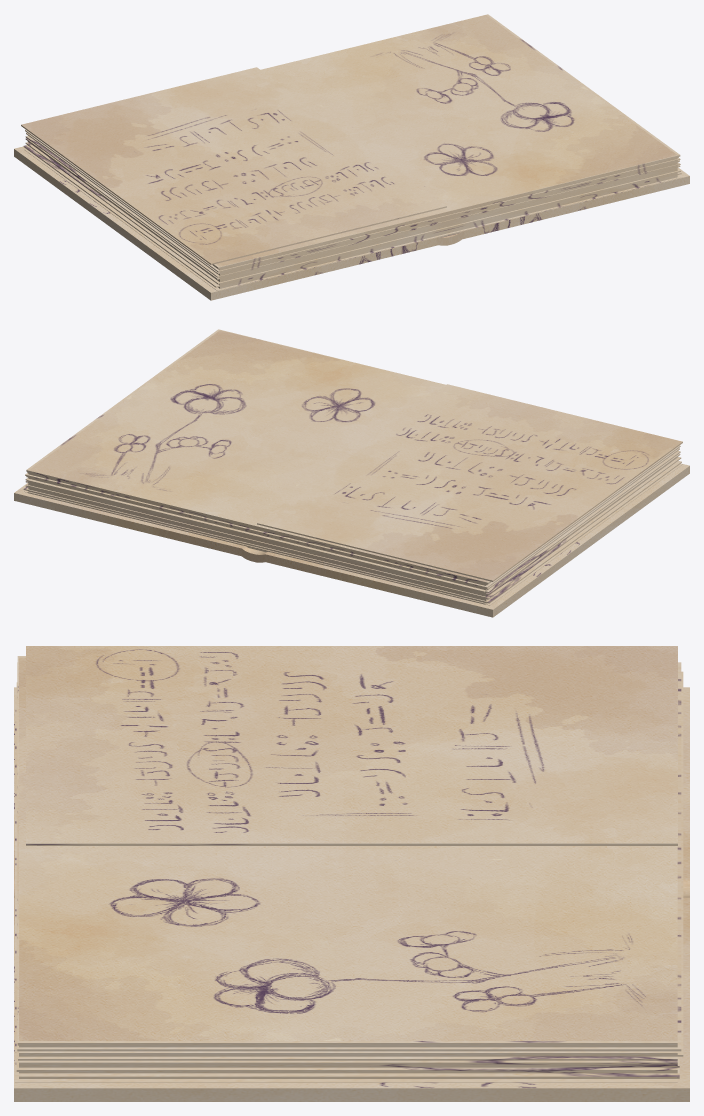
File: Journal.fbx
3 renders of one model, top to bottom at view 1: azimuth 30°, elevation 25°; view 2: azimuth 150°, elevation 25°; view 3: azimuth 270°, elevation 25°, orthographic. The views are drawn at different scales.
Visible parts, largest first — view 1: pCube5, pCube9, pCube5.001, pCube7, pCube7.001; view 2: pCube5, pCube9, pCube5.001, pCube7, pCube7.001; view 3: pCube5, pCube9, pCube7.001, pCube5.001, pCube7.
Part boxes in pixels (bbox=[...]): pCube5: bbox=[260, 14, 682, 235]; pCube9: bbox=[21, 67, 446, 264]; pCube5.001: bbox=[23, 129, 449, 290]; pCube7: bbox=[14, 146, 450, 300]; pCube7.001: bbox=[449, 167, 689, 244]; pCube5: bbox=[23, 329, 445, 549]; pCube9: bbox=[257, 384, 682, 581]; pCube5.001: bbox=[255, 445, 682, 605]; pCube7: bbox=[253, 464, 689, 617]; pCube7.001: bbox=[14, 483, 257, 561]; pCube5: bbox=[15, 849, 683, 1082]; pCube9: bbox=[26, 646, 677, 845]; pCube7.001: bbox=[14, 892, 689, 1101]; pCube5.001: bbox=[15, 656, 683, 887]; pCube7: bbox=[14, 687, 689, 892].
Size of the model in its own units: 62.19 by 4.48 by 44.29.
